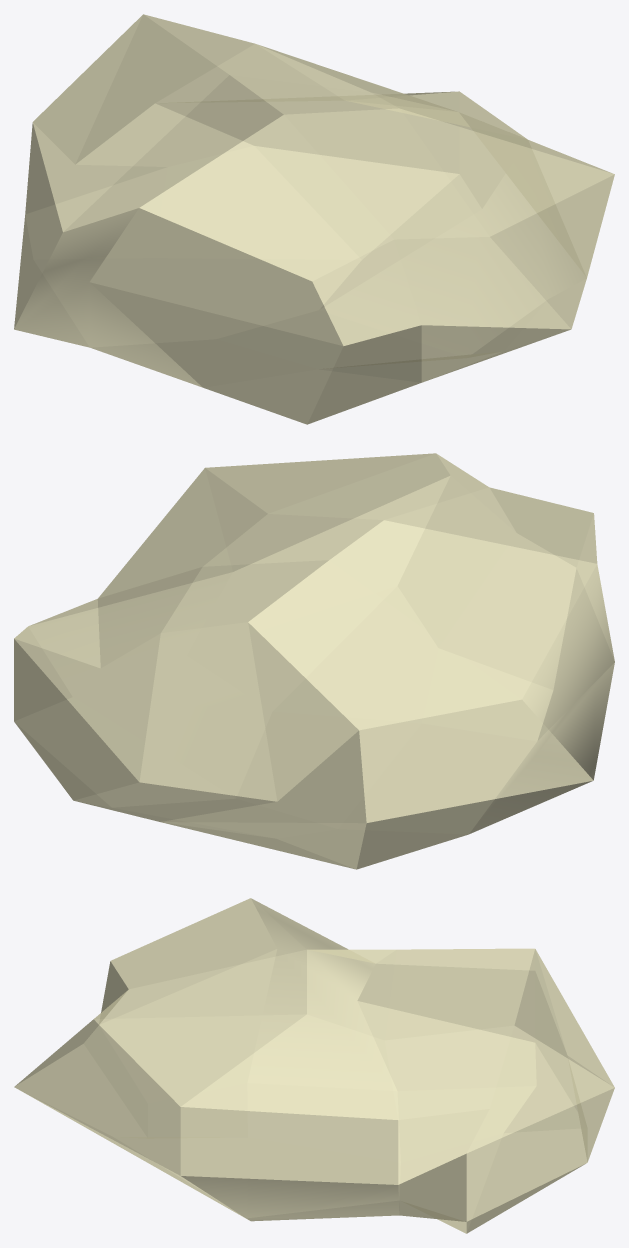
File: Cloud_Yellow.fbx
The picture shows the model from 3 angles, top to bottom: view 1: azimuth 30°, elevation 25°; view 2: azimuth 150°, elevation 25°; view 3: azimuth 270°, elevation 25°; orthographic projection. The views are drawn at different scales.
Parts seen in each view (by area): view 1: Cloud_yellow; view 2: Cloud_yellow; view 3: Cloud_yellow.
Boxes of the visible parts, x1,y1,x2,y2 form: Cloud_yellow: (14, 14, 614, 424); Cloud_yellow: (14, 453, 614, 869); Cloud_yellow: (14, 898, 614, 1233).
Size of the model in its own units: 3.52 by 1.65 by 4.12.
